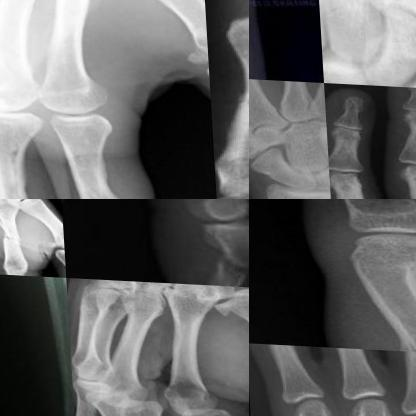fracture: (214, 70, 248, 192), (197, 228, 248, 285), (209, 289, 249, 318), (350, 199, 415, 213)
